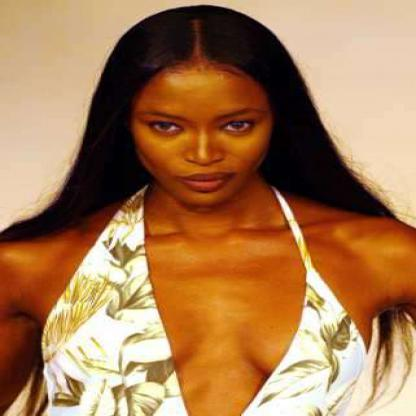face: (128, 29, 278, 206)
